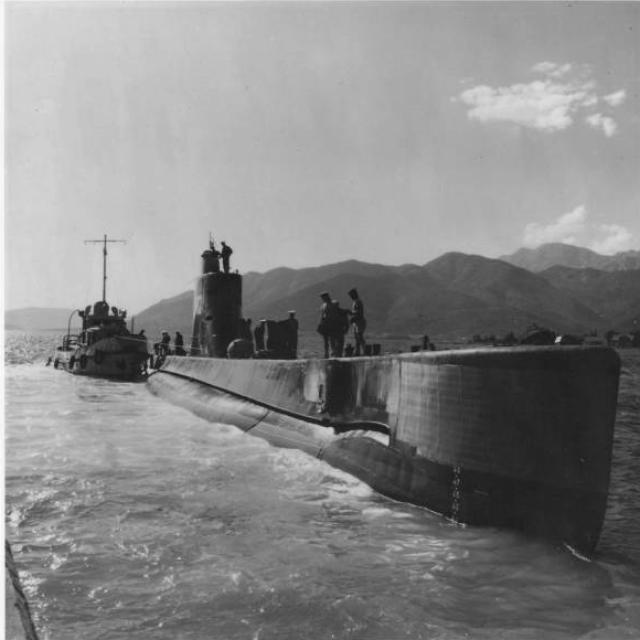submarine: (150, 231, 607, 561)
